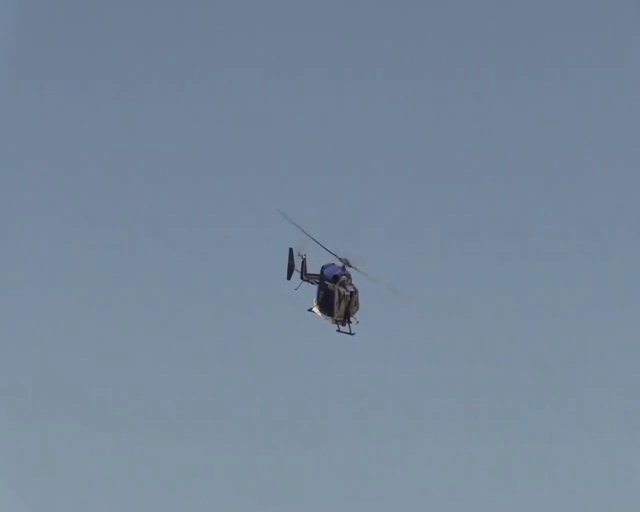HELICOPTER: (276, 204, 407, 336)
